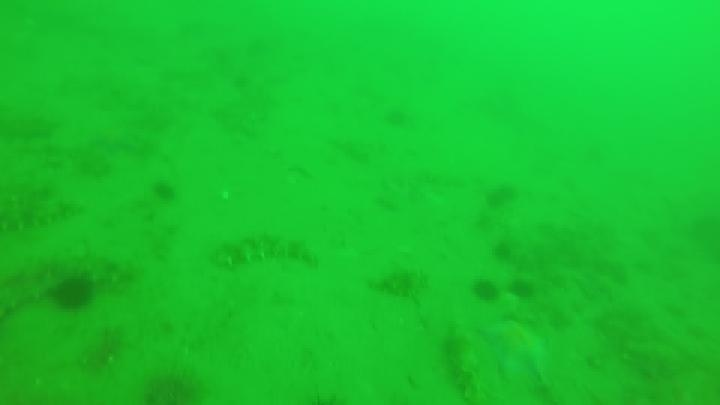echinus: (141, 369, 205, 404), (50, 275, 96, 312), (483, 182, 519, 210), (470, 277, 501, 304), (150, 178, 178, 204), (508, 277, 537, 302), (490, 239, 515, 263)
holothurian: (1, 247, 141, 319), (210, 230, 319, 271), (440, 329, 487, 404), (1, 192, 84, 234), (366, 265, 429, 301)
starfish: (479, 319, 551, 382), (2, 110, 59, 146)
